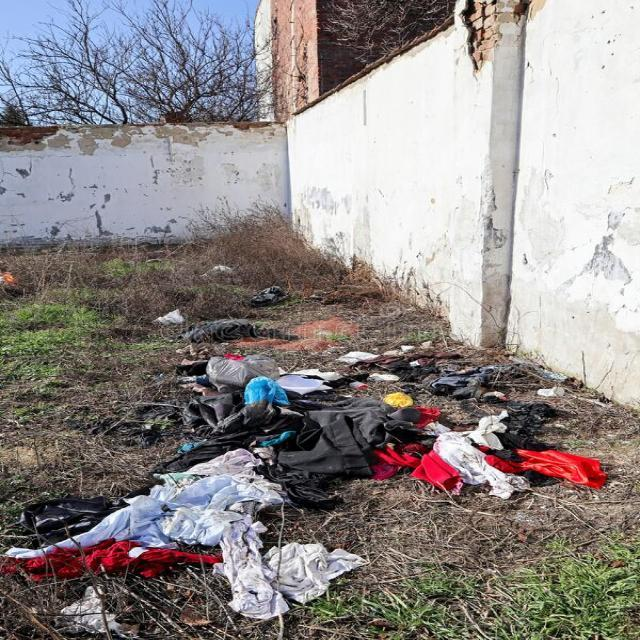clothes: (82, 427, 584, 613)
